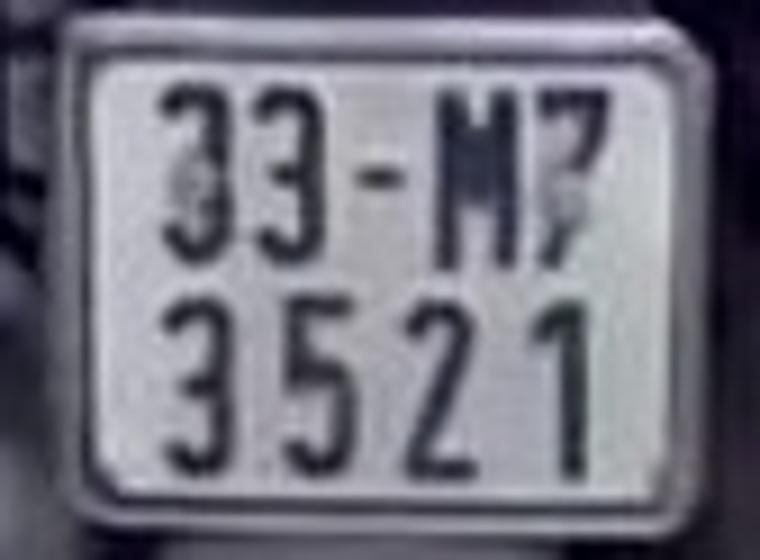-: (354, 156, 422, 195)
1: (521, 292, 606, 493)
2: (401, 286, 493, 490)
3: (152, 76, 246, 272), (252, 80, 340, 268), (152, 300, 238, 483)
5: (263, 281, 368, 471)
7: (536, 79, 609, 271)
M: (422, 75, 526, 275)
